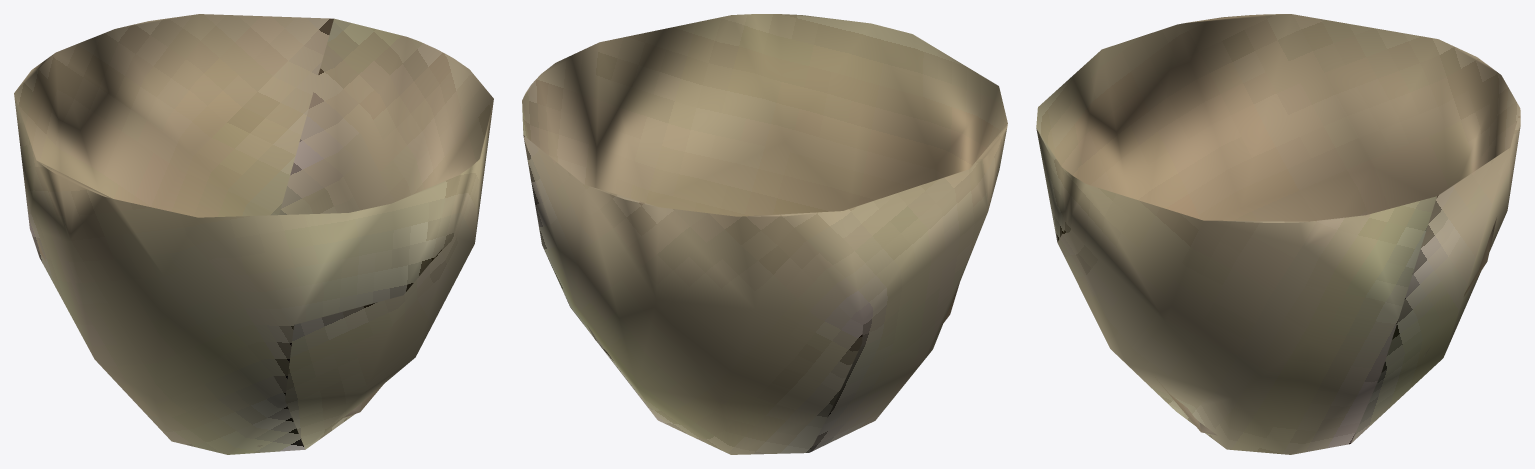
File: Ecoforms_Planter_Bowl_Cole_Hardware-low.glb
3 views of the same model, side by side, from view 1: azimuth 30°, elevation 25°; view 2: azimuth 150°, elevation 25°; view 3: azimuth 270°, elevation 25° (orthographic).
Visible parts, largest first — view 1: Ecoforms_Planter_Bowl_Cole_Hardware; view 2: Ecoforms_Planter_Bowl_Cole_Hardware; view 3: Ecoforms_Planter_Bowl_Cole_Hardware.
Boxes of the visible parts, box(x1,y1,x2,y2) form: Ecoforms_Planter_Bowl_Cole_Hardware: box(14, 14, 493, 454); Ecoforms_Planter_Bowl_Cole_Hardware: box(522, 14, 1007, 454); Ecoforms_Planter_Bowl_Cole_Hardware: box(1036, 14, 1520, 454).
Bounding box in the file's own units: 0.1799 × 0.1211 × 0.18.
Materials: 1 (1 with a texture image).
